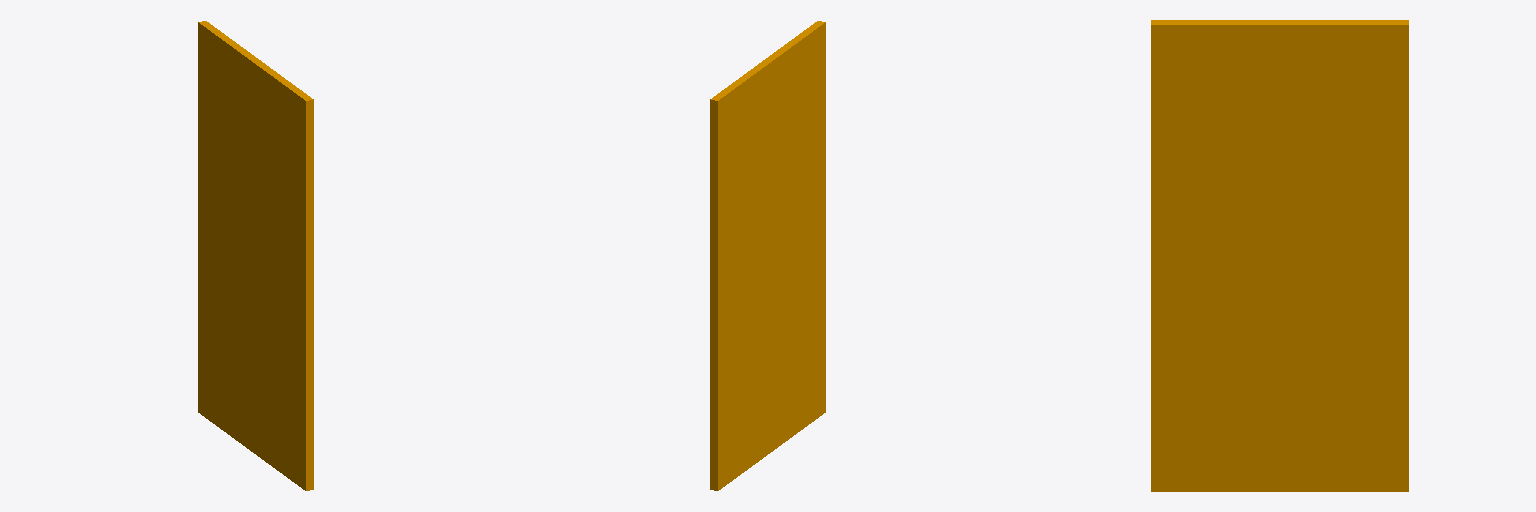
The robot description file, URDF, robot "platex":
<?xml version="1.0"?>
<robot name="platex">
    <link name="platex">
        <visual>
            <geometry>
                <mesh filename="../mesh/factory_insertion/platex.obj" scale="1 0.5 1"/>
            </geometry>
        </visual>
        <collision>
            <geometry>
                <mesh filename="../mesh/factory_insertion/platex.obj" scale="1 0.5 1"/>
            </geometry>
             <!-- sdf resolution="256"-->
        </collision>
    </link>
</robot>

--- Render facts (derived) ---
The picture shows the robot from 3 angles, left to right: view 1: azimuth 30°, elevation 25°; view 2: azimuth 150°, elevation 25°; view 3: azimuth 270°, elevation 25°; orthographic projection.
Model platex with 1 links and 0 joints (none), rooted at platex, posed all joints at 0.
Links seen in each view (by area): view 1: platex; view 2: platex; view 3: platex.
Boxes of the visible links, bbox=[...] form: platex: bbox=[198, 21, 313, 490]; platex: bbox=[710, 21, 825, 490]; platex: bbox=[1151, 20, 1408, 491].
Bounding box of the posed robot: 0.0199 × 0.5 × 1 m (x, y, z).
Meshes: 1 distinct files referenced, 1 mesh visuals loaded (1 OBJ).
